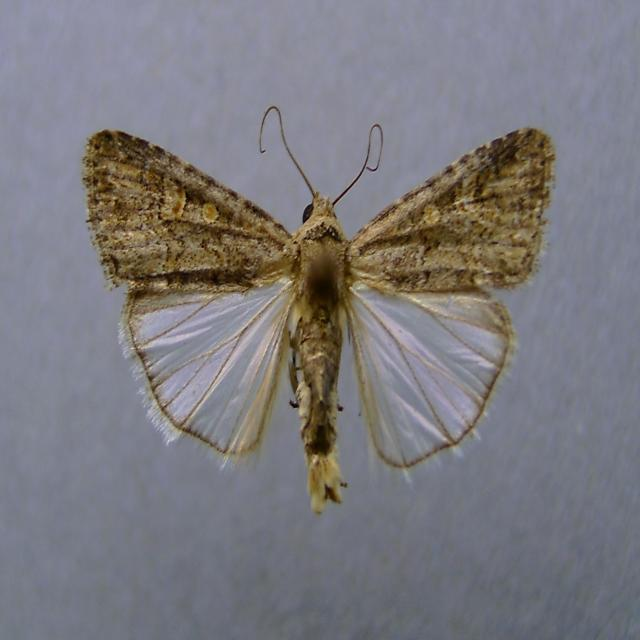armyworm: (90, 95, 568, 515)
